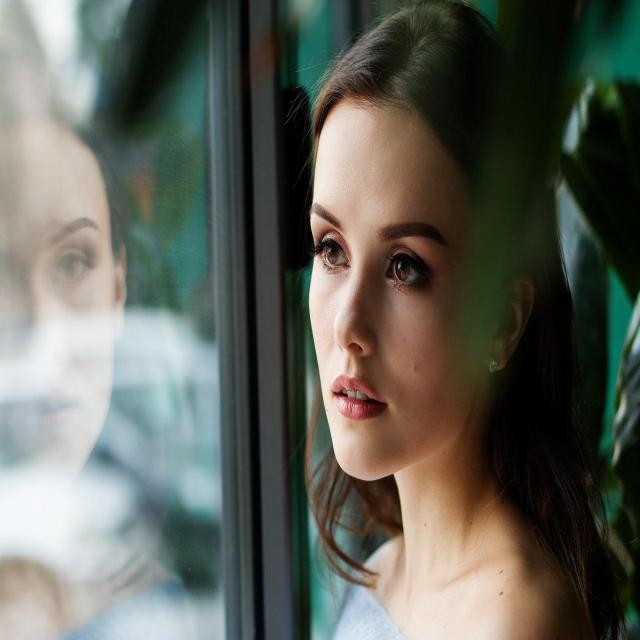person: (279, 21, 598, 624), (6, 78, 154, 556)
